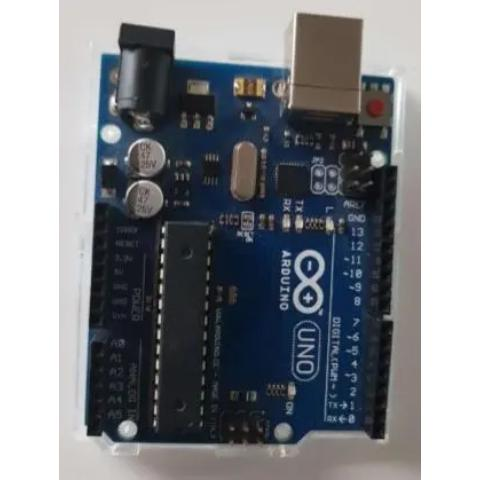Arduino-Uno: (84, 11, 402, 444)
